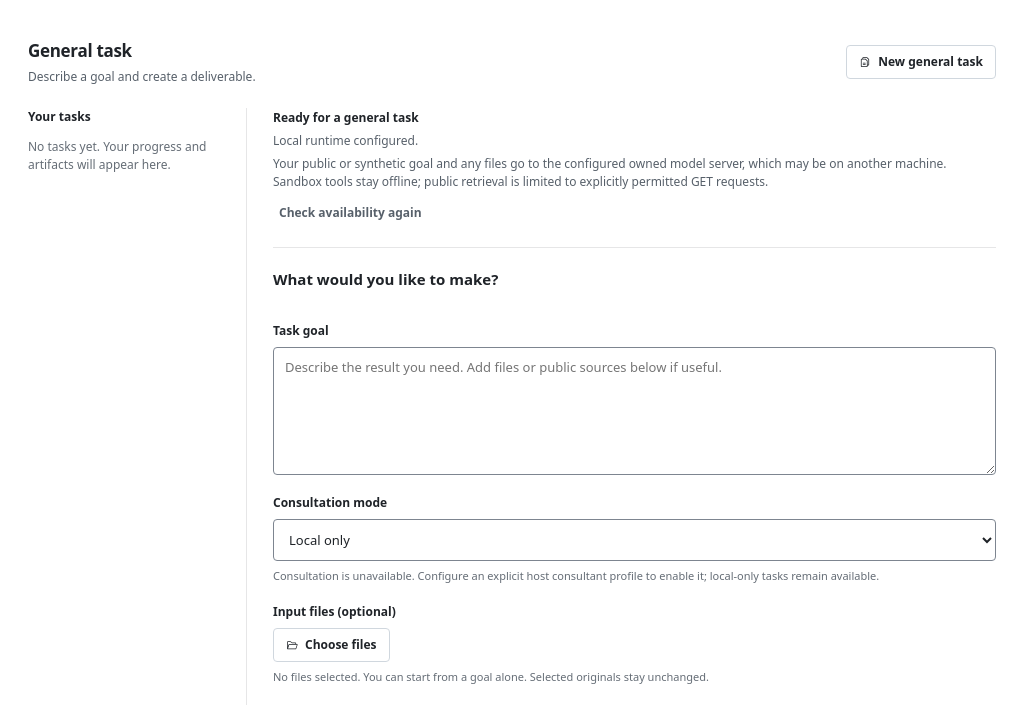
Test: general task workspace › starts through the opaque selection only after explicit goal-and-input attestation
Expected: the text "Ready for a general task" is shown, [273,108,419,126]
Type "Audit the invoice batch" into the text box labelled "Task goal" at [634, 410], box [273,346,996,474]
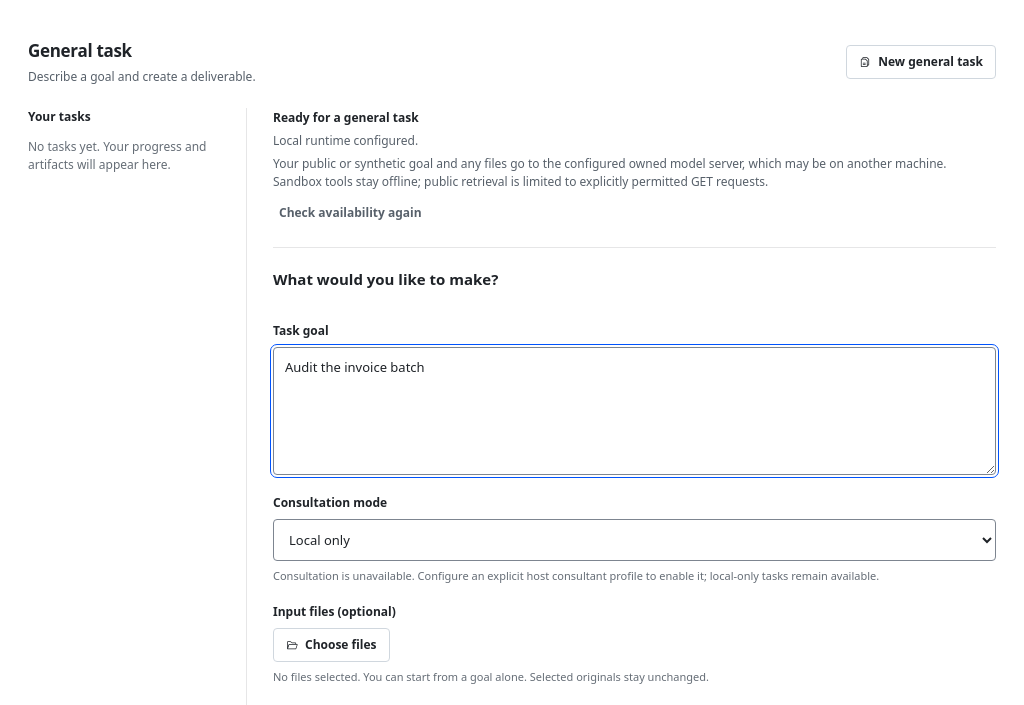
Click the button "Choose files" at [331, 645], box [273,628,390,662]
(page scrolled)
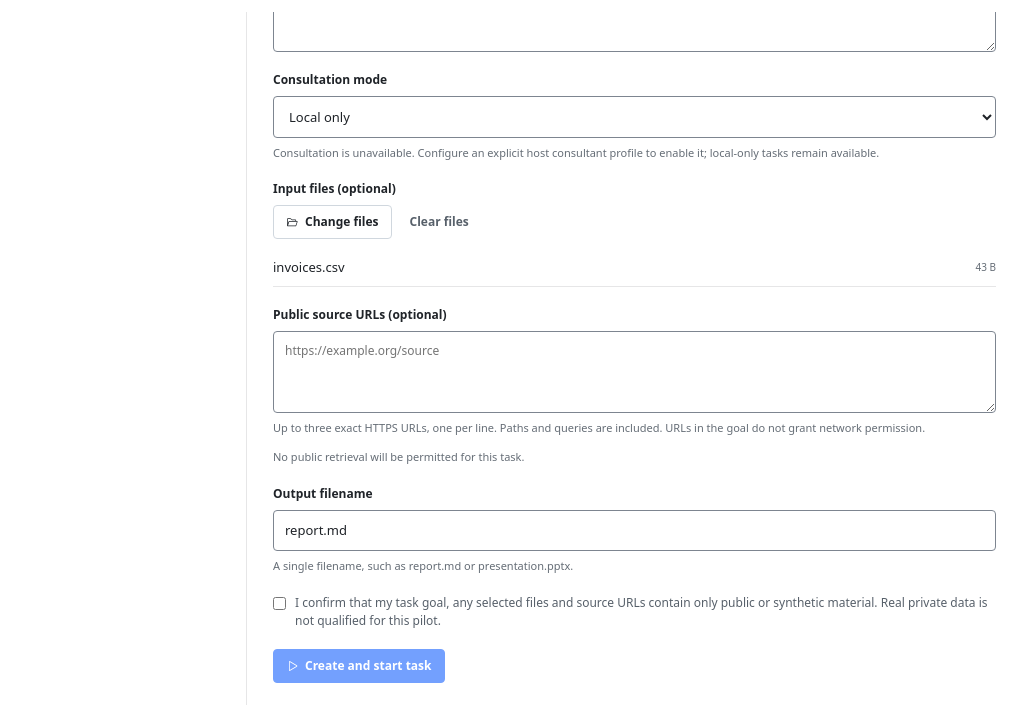
Click the checkbox at [280, 603], box [273,596,286,610]
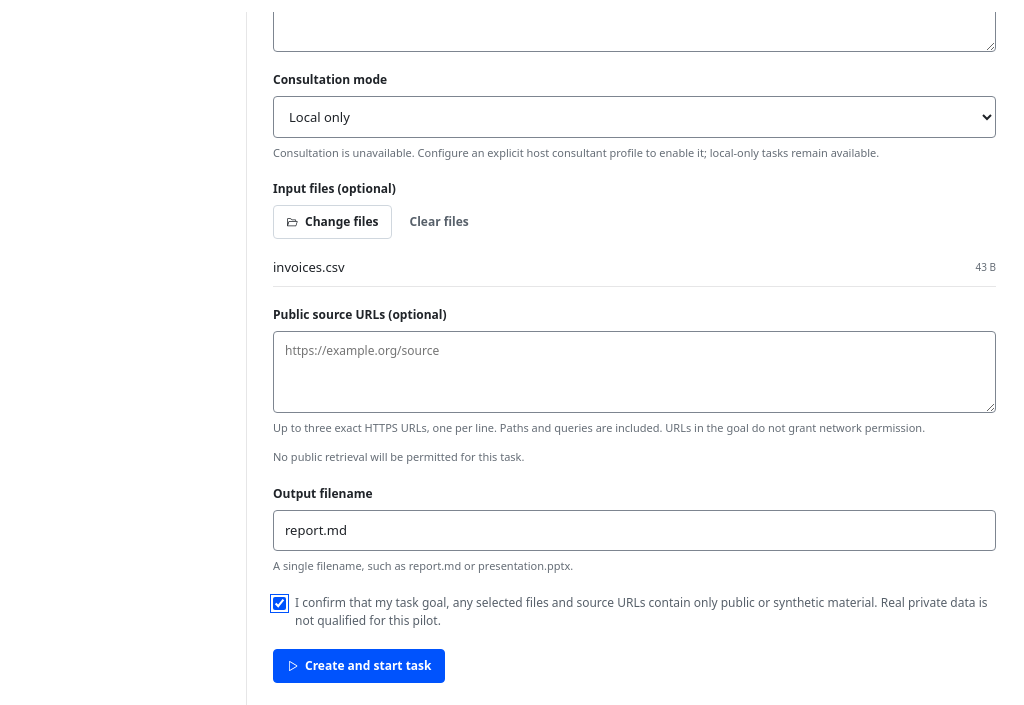
Result: the field labelled "Output filename" holds "report.md" at [273,510,996,551]
Click the button "Create and start task" at [359, 666], box [273,648,444,682]
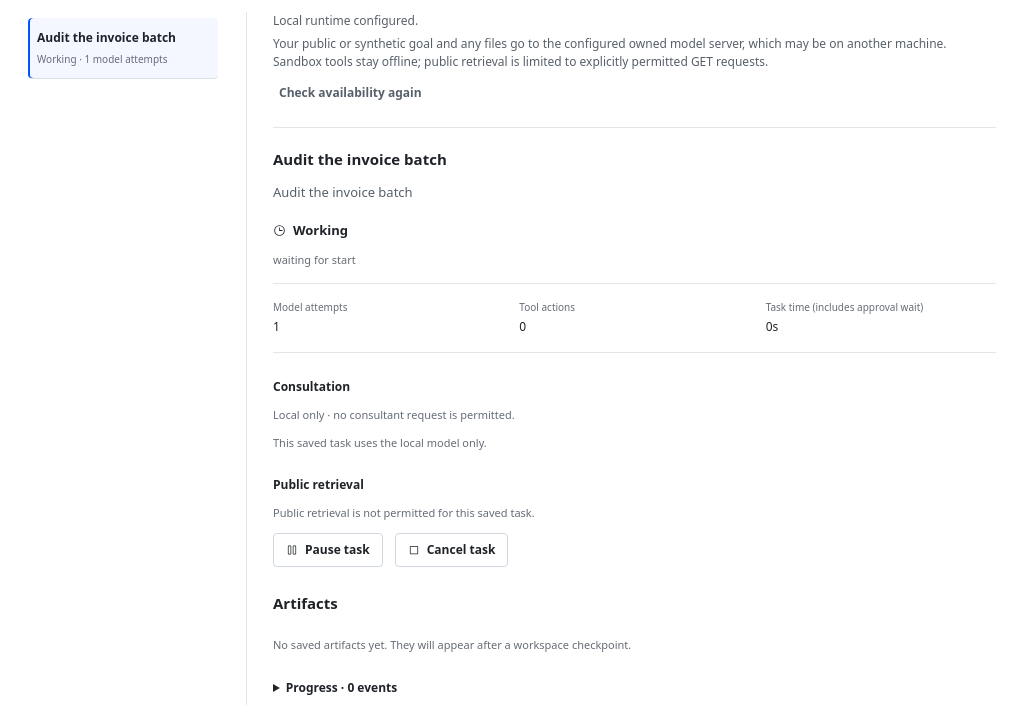
Result: the element named "Selected general task" shows "Working" at [293,221,348,239]
